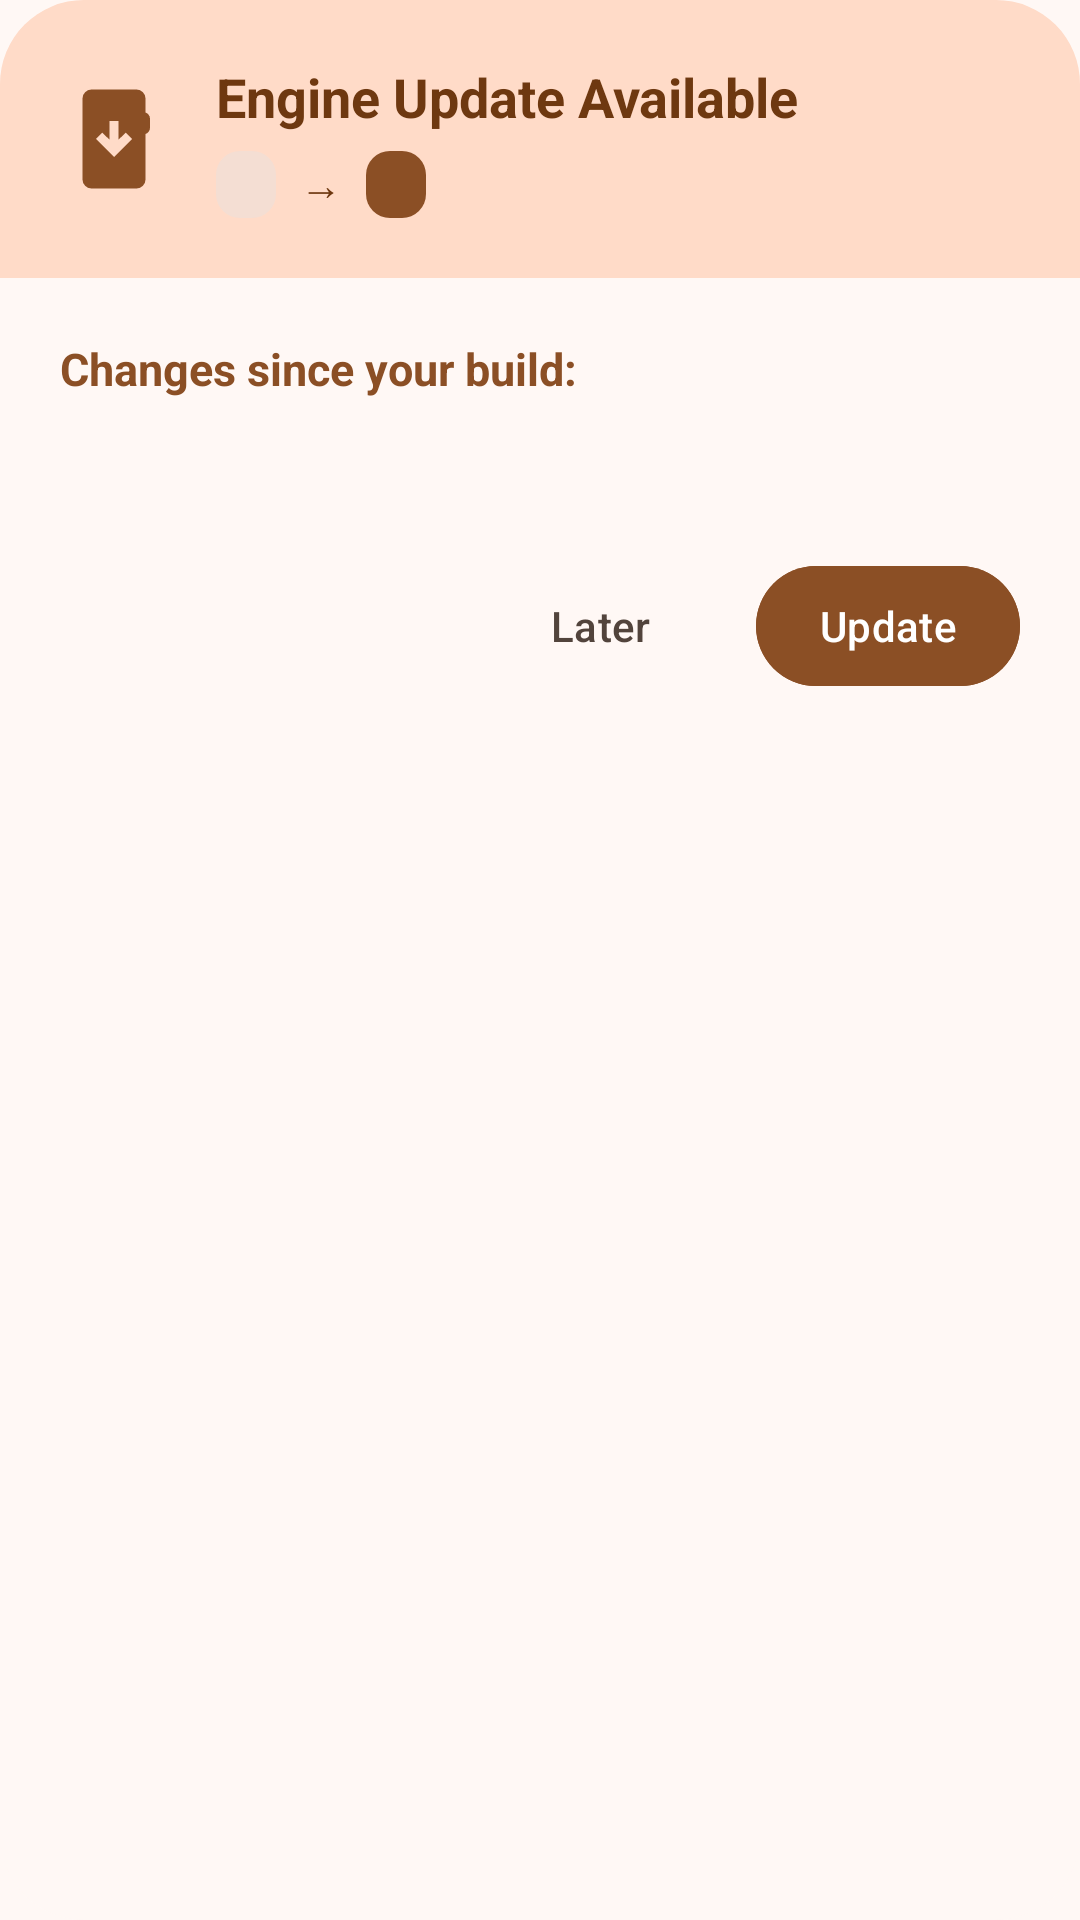

Locate icon controls on the screen. Image size 1080×1920, boxes as (x1, y1, x2, y2).
mobile arrow down: (82, 89, 150, 189)
